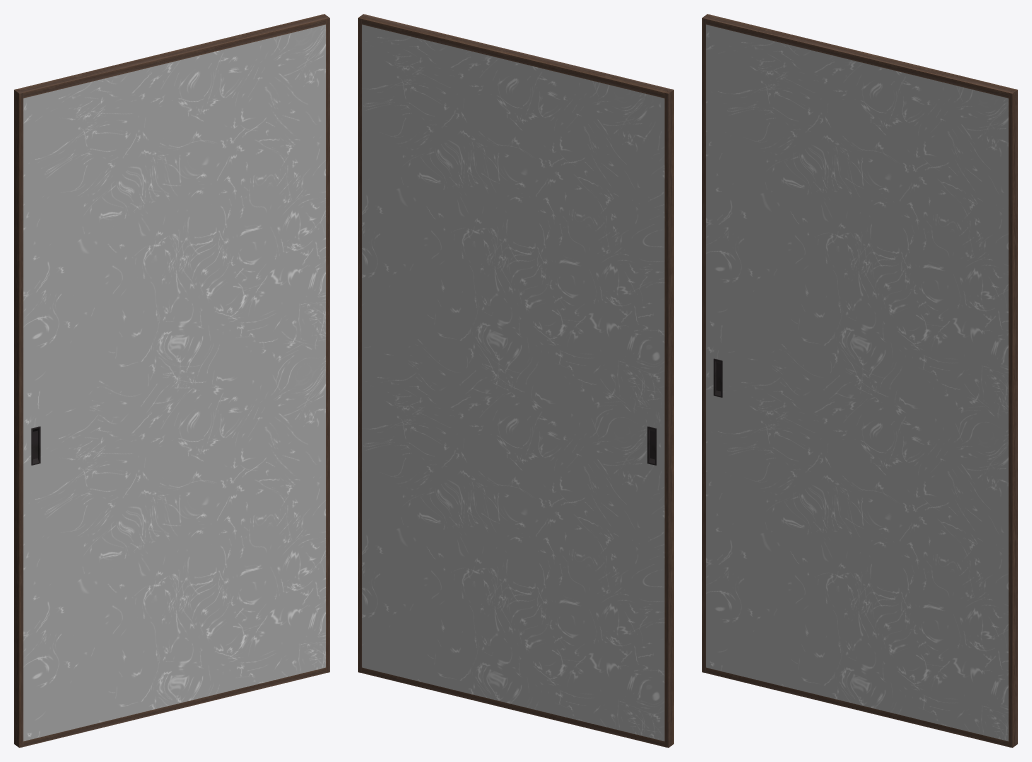
Rendered from hikido01b.fbx.
3 renders of one model, left to right at view 1: azimuth 30°, elevation 25°; view 2: azimuth 150°, elevation 25°; view 3: azimuth 330°, elevation 25°, orthographic.
Parts seen in each view (by area): view 1: hikido01b; view 2: hikido01b; view 3: hikido01b.
Boxes of the visible parts, x1,y1,x2,y2 form: hikido01b: (14, 14, 329, 747); hikido01b: (358, 14, 673, 747); hikido01b: (702, 14, 1017, 747).
Bounding box in the file's own units: 110 × 221 × 3.82.
